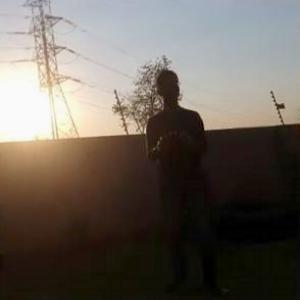follow: (140, 60, 228, 288)
